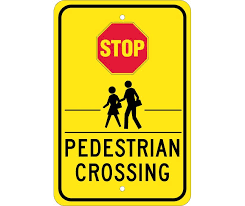Stop: (93, 18, 152, 79), (162, 57, 188, 107)
